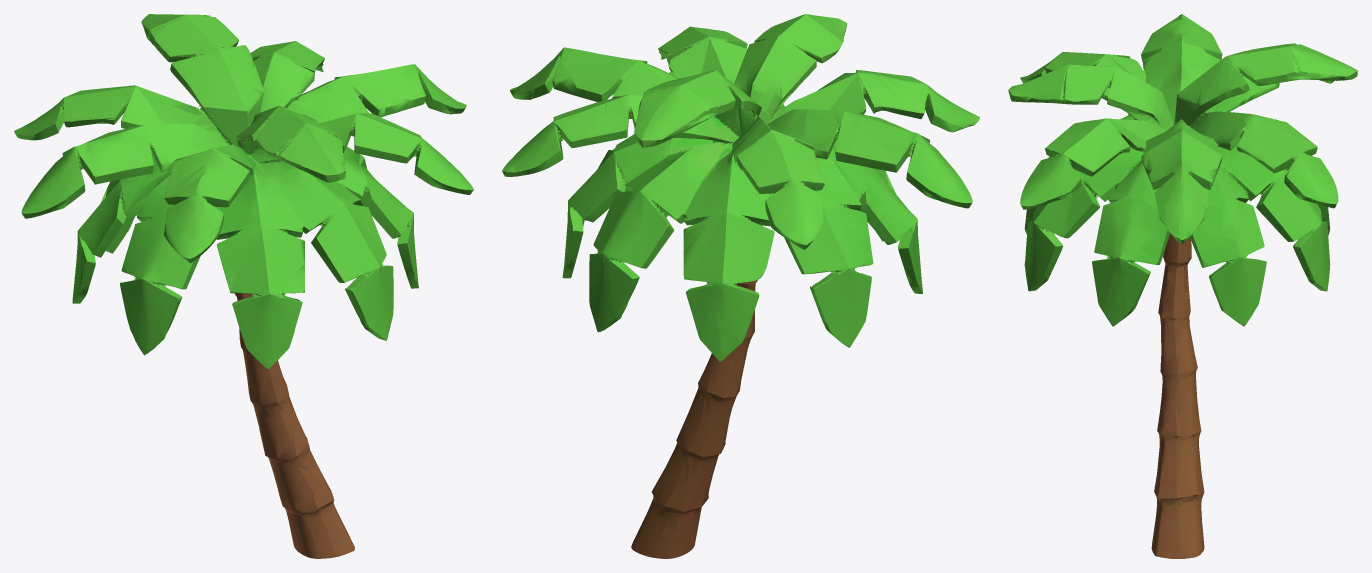
Rendered from mdl-palm.glb.
The picture shows the model from 3 angles, left to right: view 1: azimuth 30°, elevation 25°; view 2: azimuth 150°, elevation 25°; view 3: azimuth 270°, elevation 25°; orthographic projection. The views are drawn at different scales.
Size of the model in its own units: 1.75 by 1.9 by 1.29.
1 material, 1 textured.
